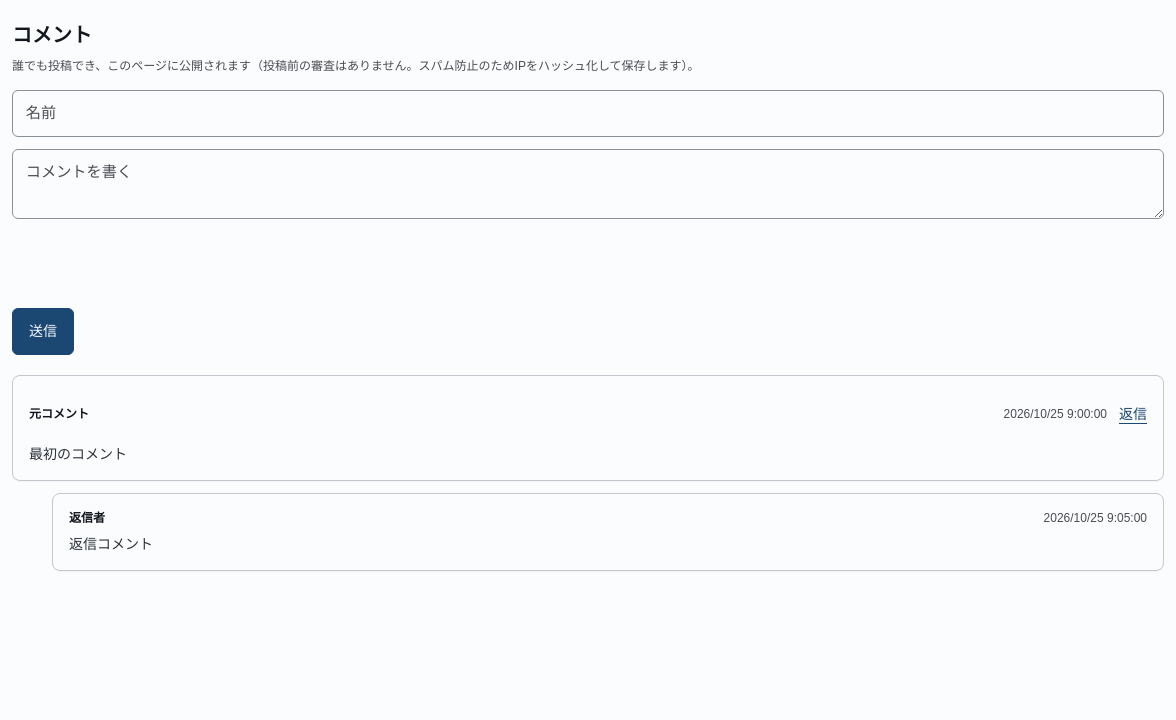
Test case: CommentSection (replies) › cancels the reply mode
The width and height of the screenshot is (1176, 720).
Expected: the text "最初のコメント" is shown, [29, 446, 127, 462]
What coordinates should you click on to do the following:
click the button "返信"
I would click on:
 (1133, 414)
Its box is [1119, 392, 1147, 436].
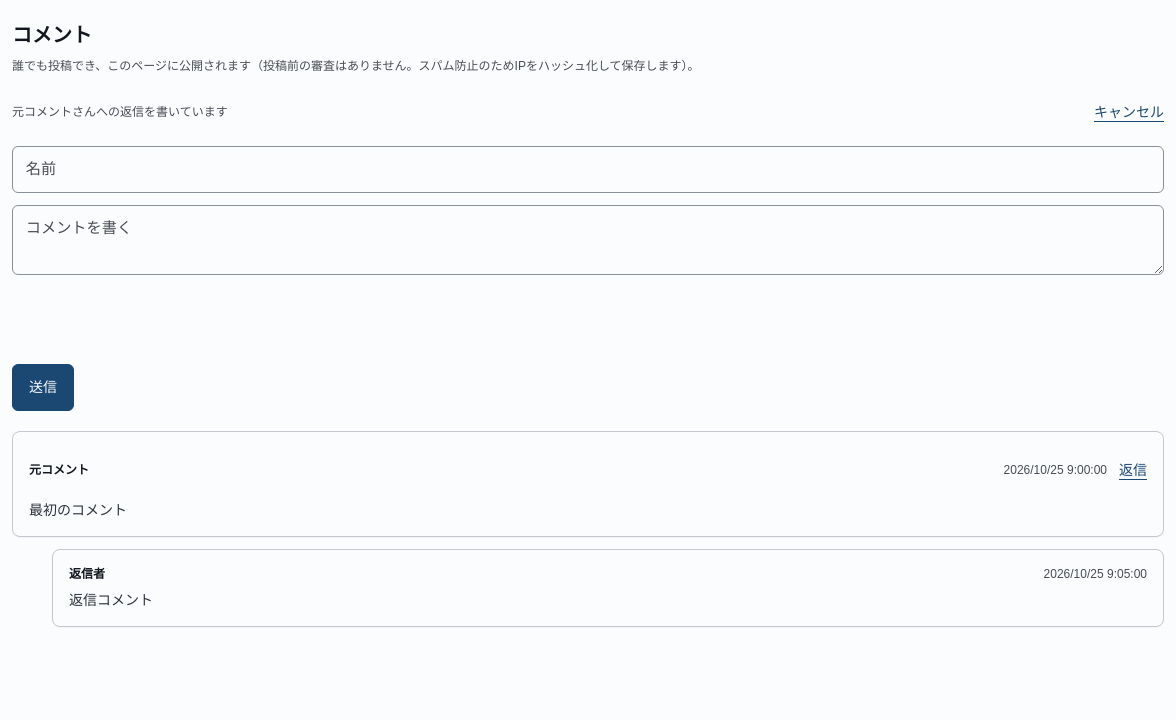
What coordinates should you click on to do the following:
click the button "キャンセル"
I would click on:
 (1129, 112)
Its box is [1094, 90, 1164, 134].
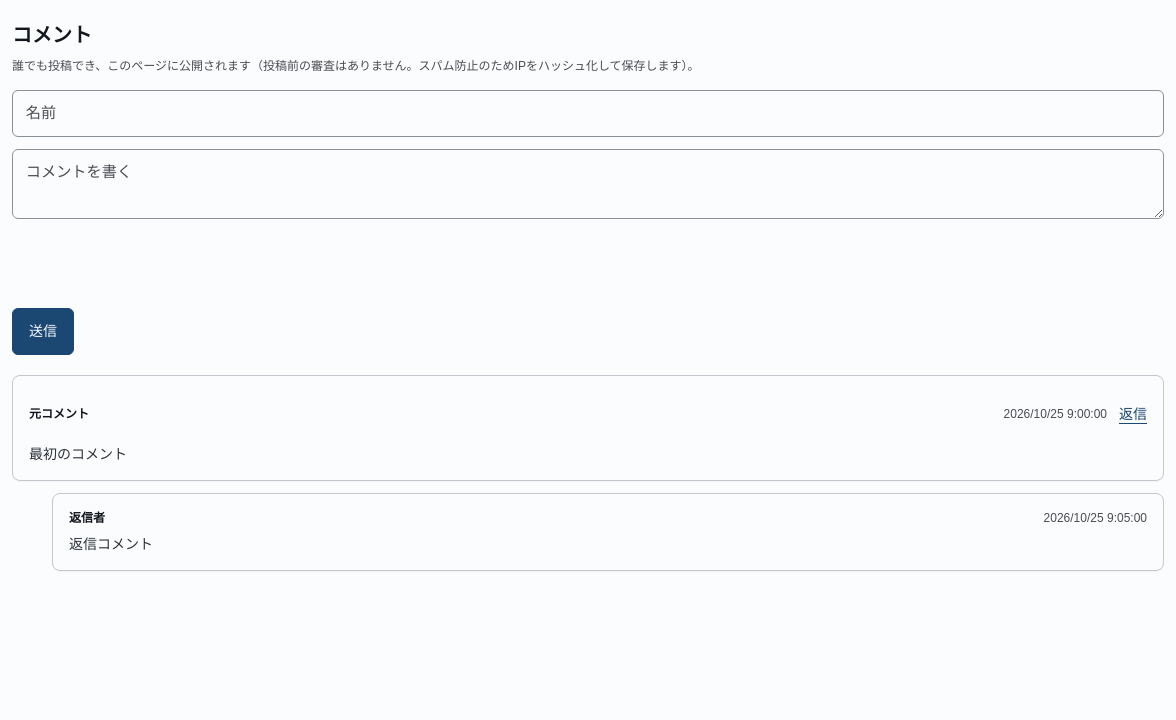
Expected: the text "さんへの返信を書いています" is gone
